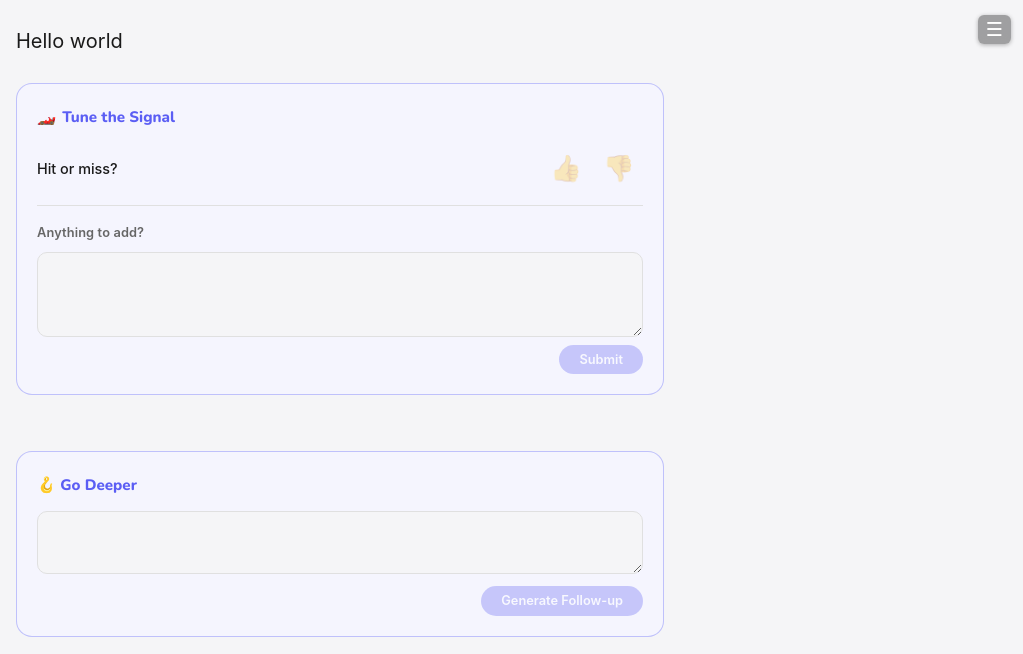
Scenario: ArticlePage feedback bar › submit button is disabled when textarea is empty, enabled when non-empty
Expected: the button named "Like" is shown, top-left (542, 148), bottom-right (590, 189)
Expected: the button "Submit" is disabled, top-left (560, 344), bottom-right (643, 374)
Type "hello" into the text box labelled "Anything to add?" at (340, 294), box top-left (37, 252), bottom-right (643, 337)
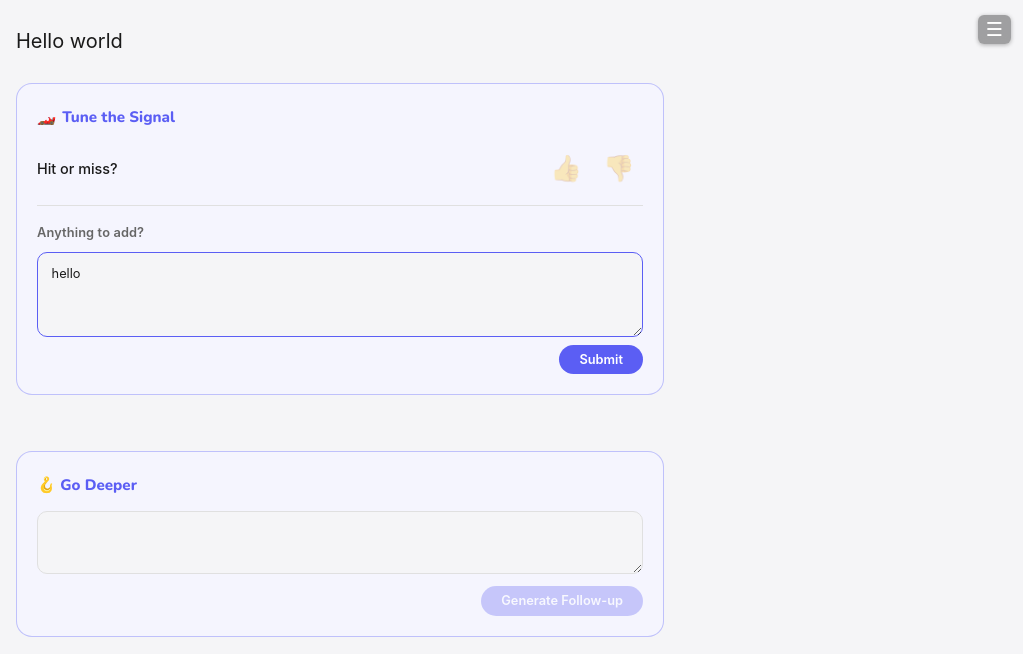
Expected: the button "Submit" is enabled, top-left (560, 344), bottom-right (643, 374)
